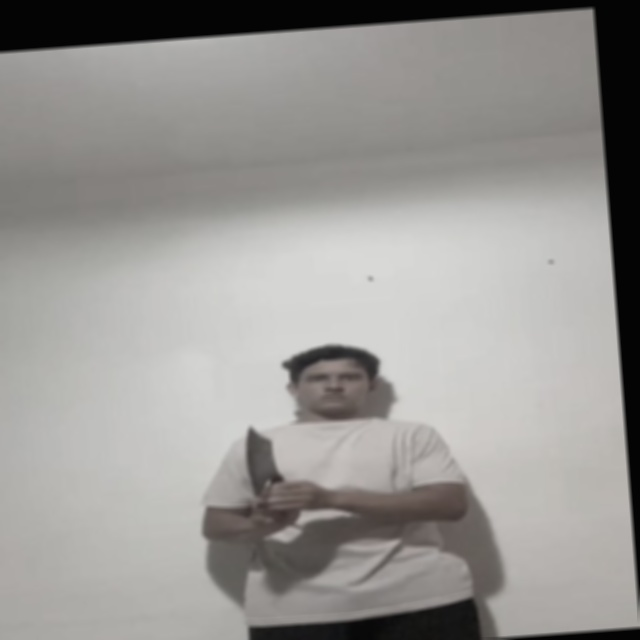Sharp-Object: (243, 423, 278, 492)
